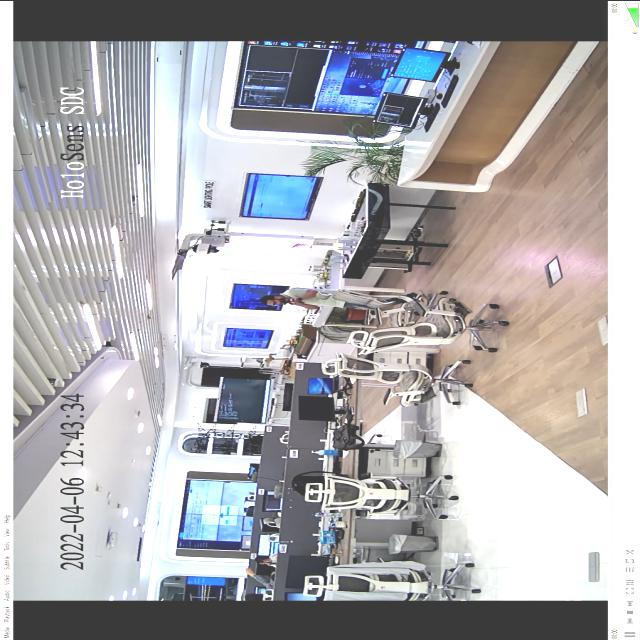long weapon: (279, 289, 311, 308)
